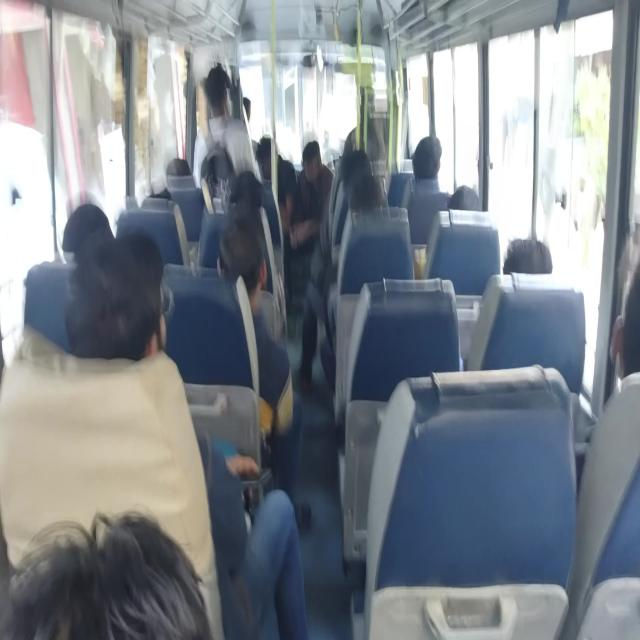person: (18, 518, 173, 640), (60, 246, 168, 372), (606, 254, 640, 427), (217, 208, 278, 300), (59, 204, 120, 266), (500, 228, 548, 286), (454, 179, 498, 236), (295, 125, 330, 184), (228, 167, 266, 214), (202, 62, 230, 121), (412, 137, 442, 187), (145, 182, 183, 221), (158, 156, 194, 188), (342, 147, 366, 186), (226, 163, 255, 194), (240, 91, 260, 131), (356, 183, 374, 225), (263, 138, 281, 170), (402, 144, 421, 167)
